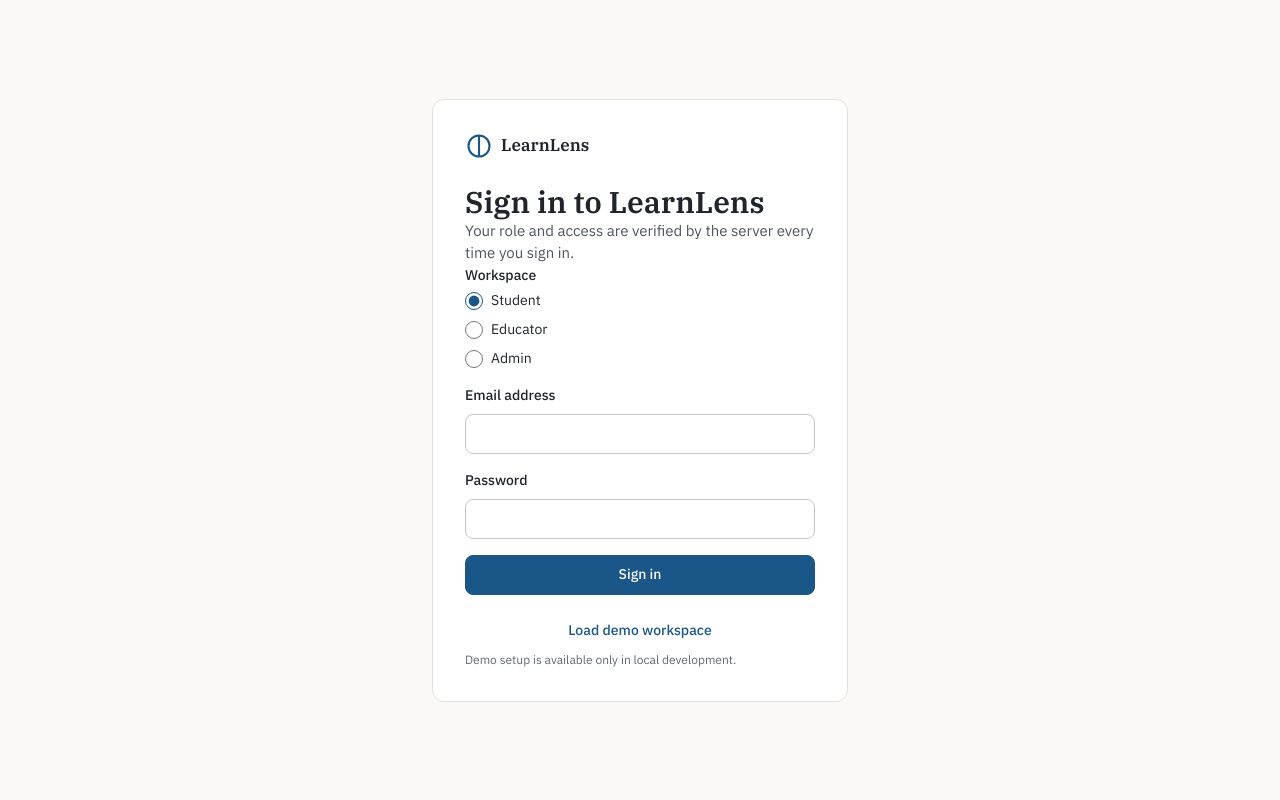
Scenario: signs an educator into the server-authorised workspace with credentialed requests
The image size is (1280, 800).
Expected: the heading "Sign in to LearnLens" is shown, [465,184,815,220]
Click the radio button labelled "Educator" at (474, 330), box [465,320,483,338]
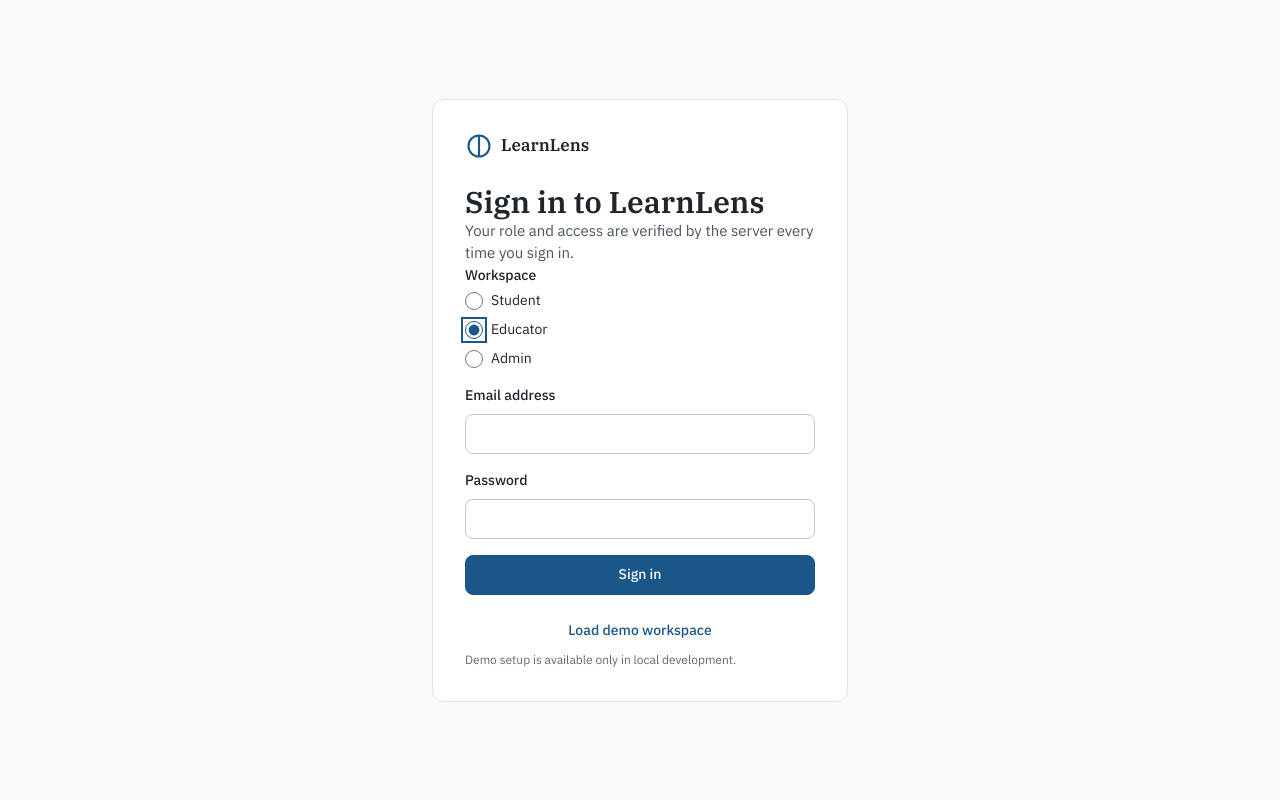
Type "educator@example.edu" into the field labelled "Email address" at (640, 434), box [465,414,815,454]
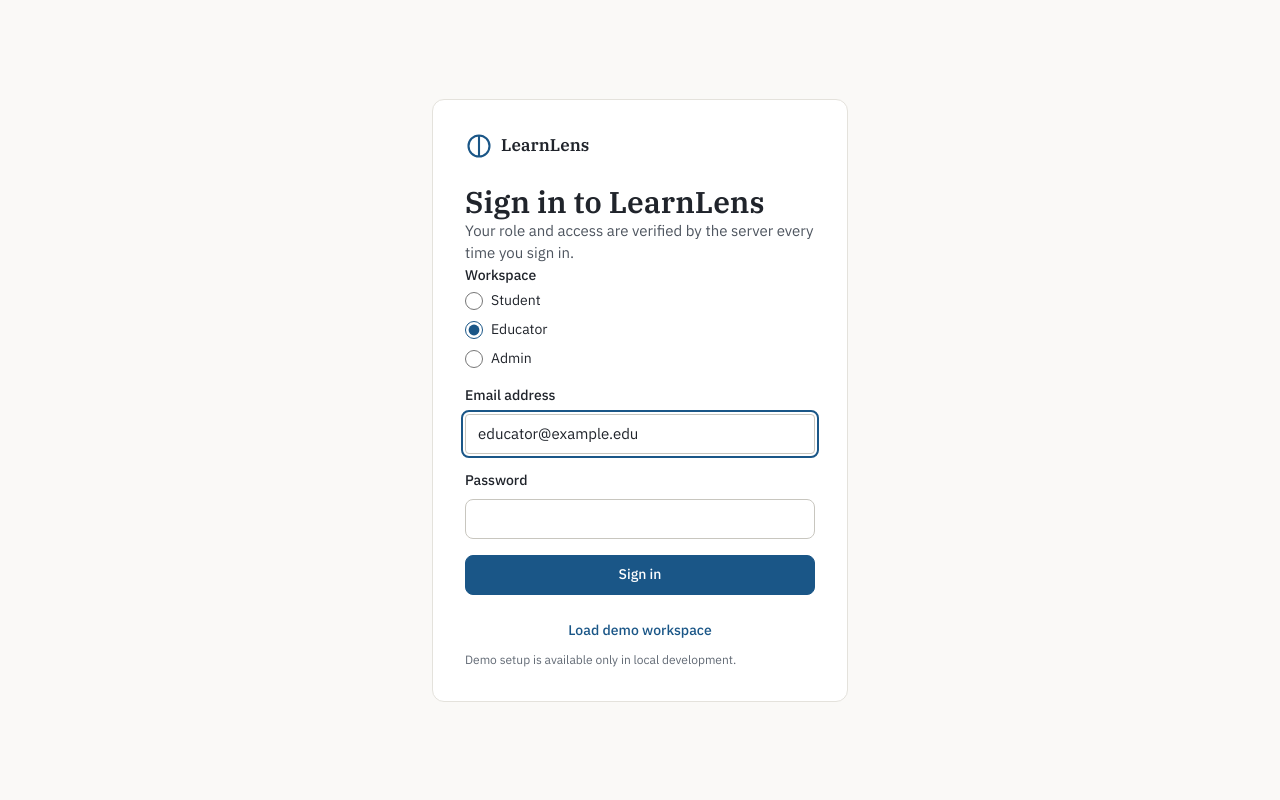
Type "correct-password" into the password field labelled "Password" at (640, 518), box [465,498,815,538]
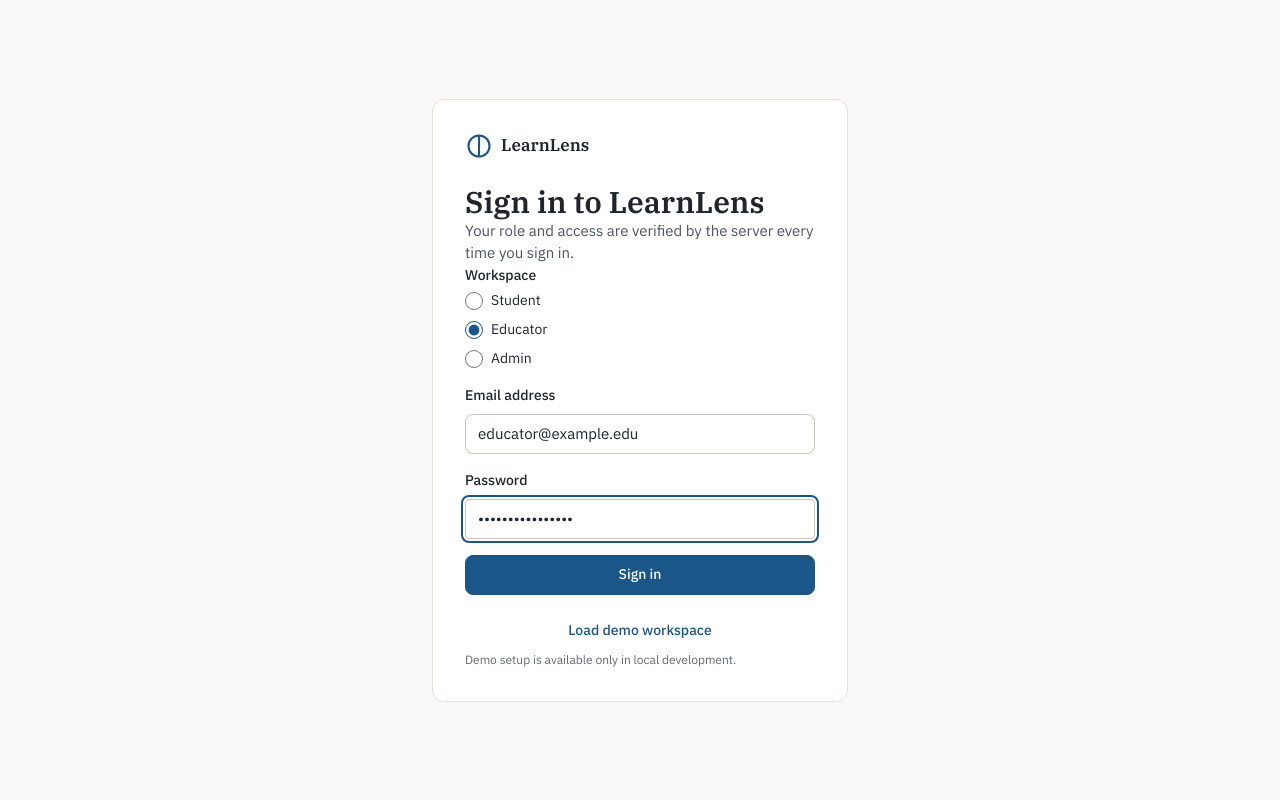
Click the button "Sign in" at (640, 574), box [465,554,815,594]
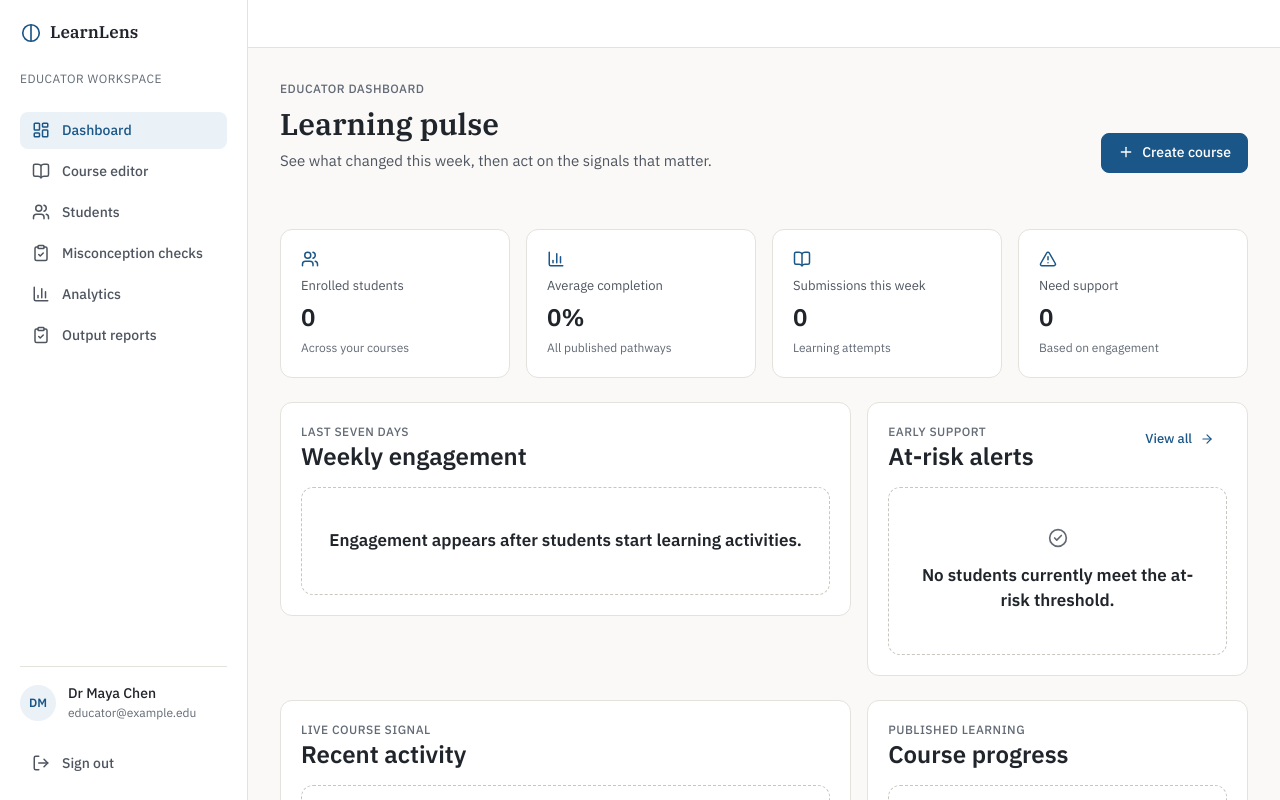
Now the heading "Learning pulse" is shown, box [280,104,499,143]
